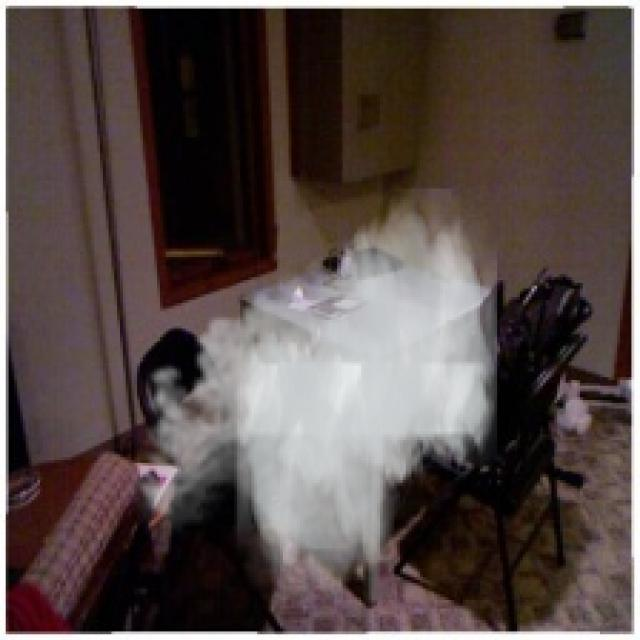Smoke: (126, 188, 497, 608)
